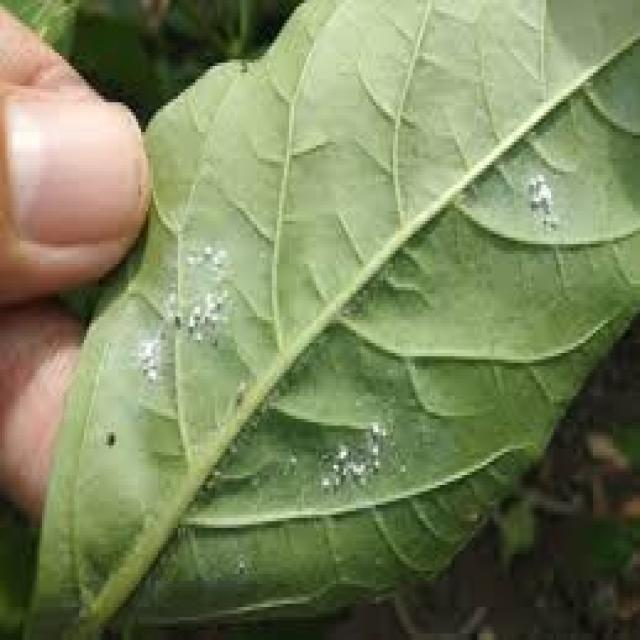Pestalotiopsis: (110, 225, 256, 404), (282, 364, 426, 510), (169, 516, 254, 623), (506, 162, 569, 296)
